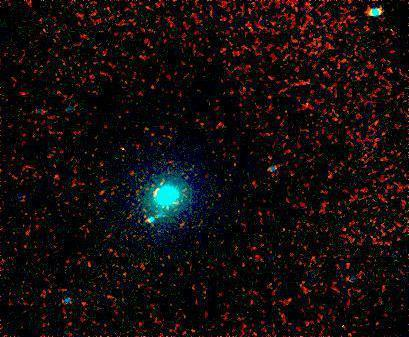star: (331, 310, 361, 337)
